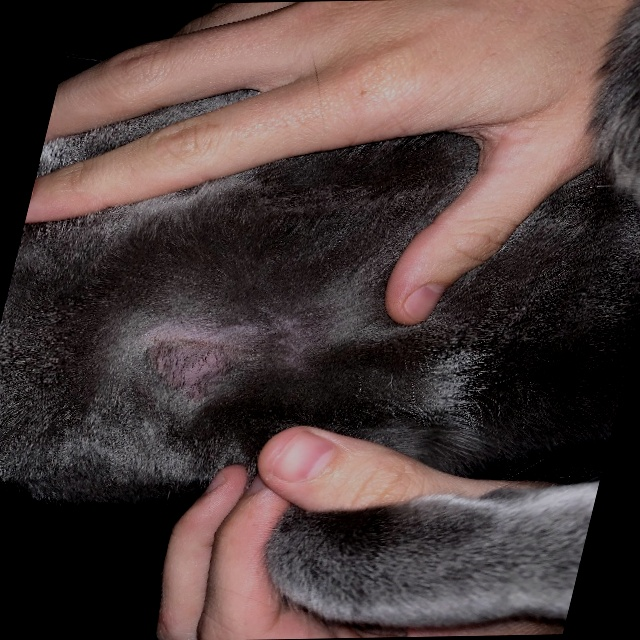hairloss: (113, 319, 264, 414)
